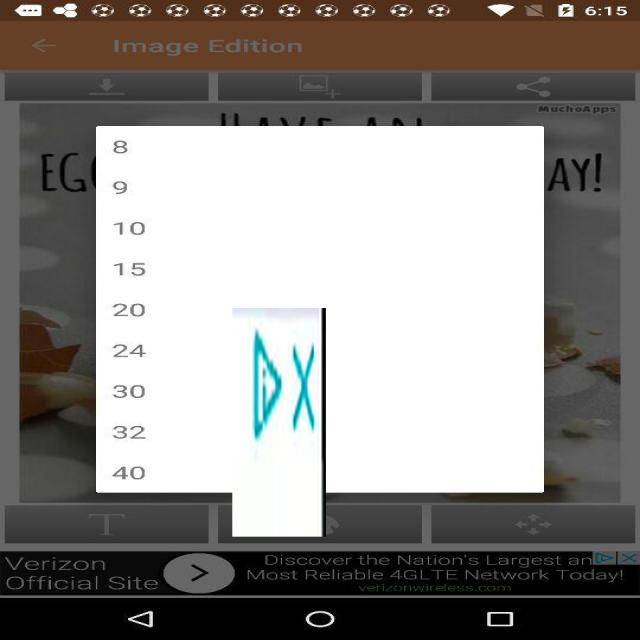sneaking: (232, 308, 326, 537)
